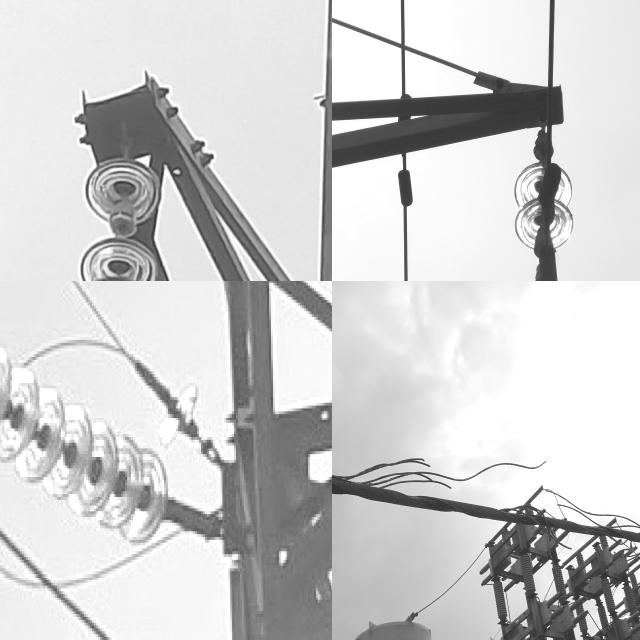杆塔: (57, 0, 332, 281)
正常绝缘子: (0, 327, 194, 576), (61, 145, 188, 281), (507, 123, 578, 281)
电缆破损: (332, 442, 640, 556)
绝缘子破损: (108, 209, 137, 237), (533, 239, 558, 270), (533, 274, 558, 281)
